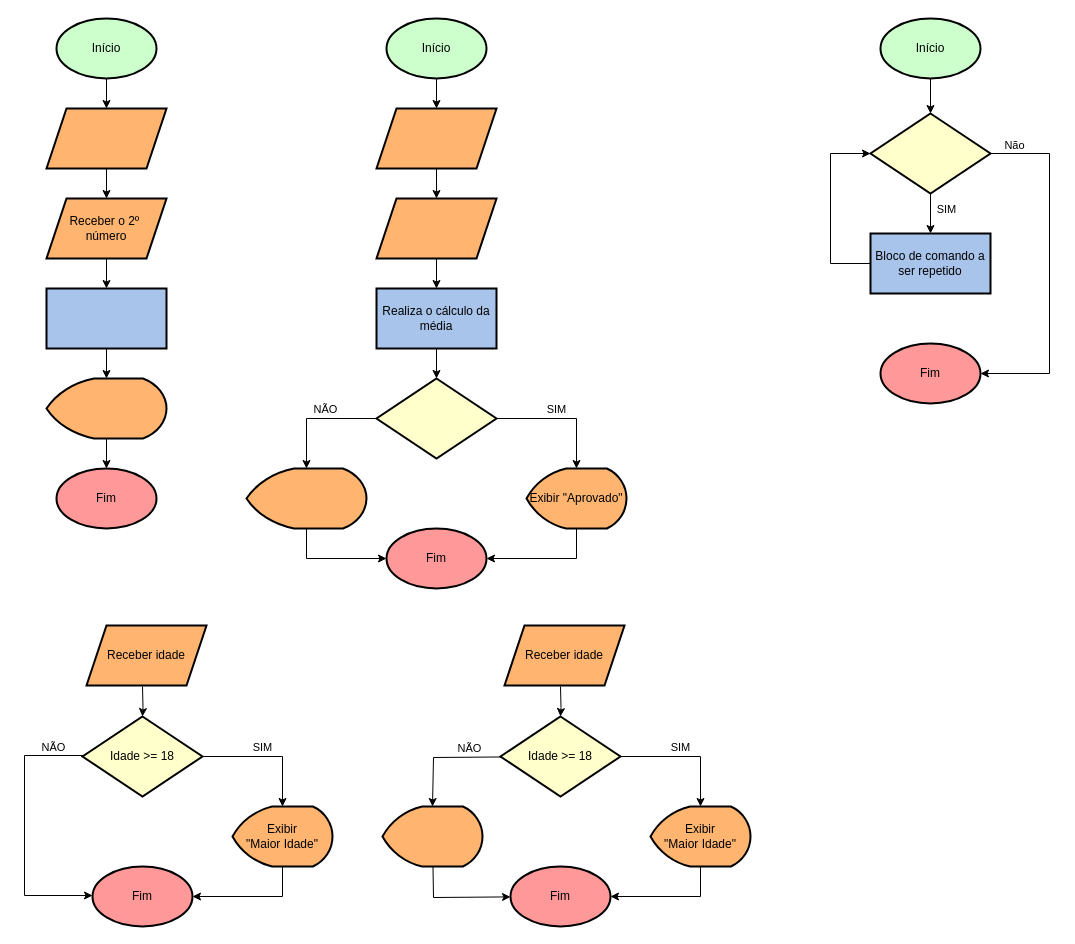
Image size: 1075x944. Some labels were removed from this diagram. The shapes that lost their labels are listed below. From the top down, each one's box as (x1, y1, x2, y2) in pixels, then its label:
(45, 107, 167, 169): Receber o 1º número
(375, 107, 497, 169): Obter 1ª Nota
(869, 112, 991, 194): Condição Atendida?
(375, 197, 497, 259): Obter 2ª Nota
(45, 287, 167, 349): Realizar a soma dos números obtidos
(45, 377, 167, 439): Exibir o resultado da soma
(375, 377, 497, 459): Média acima de 7?
(245, 467, 367, 529): Exibir "Reprovado"
(381, 805, 483, 867): Exibir "Menor Idade"
